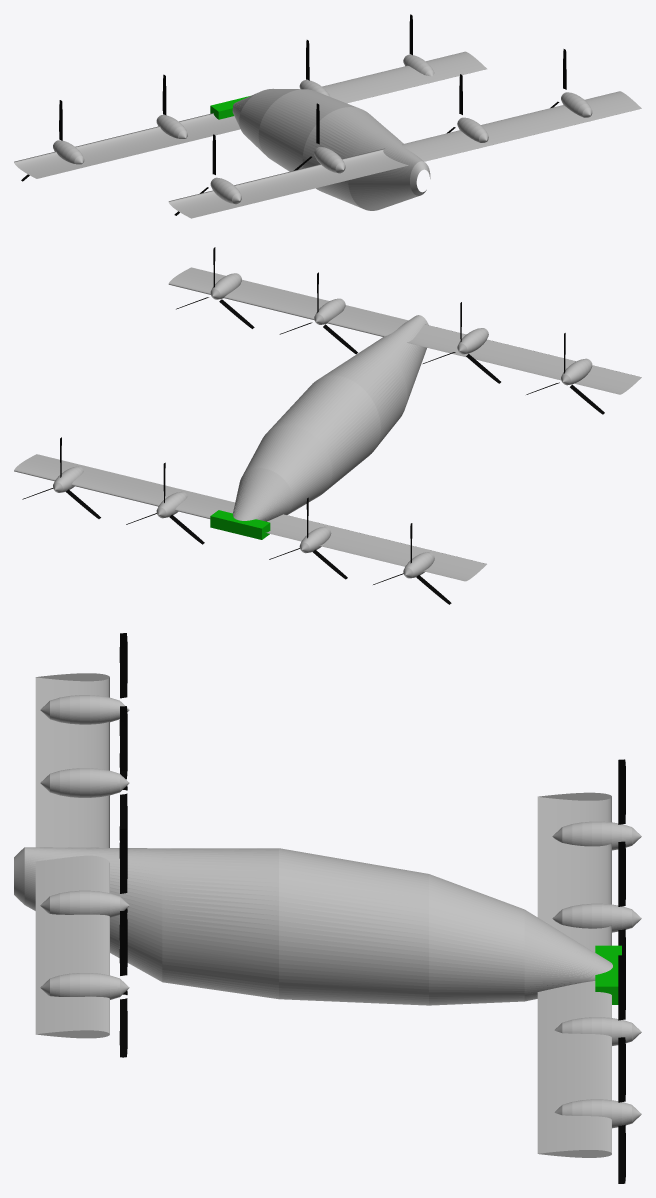
The model's file is Vahana.gltf.
3 renders of one model, top to bottom at view 1: azimuth 30°, elevation 25°; view 2: azimuth 150°, elevation 25°; view 3: azimuth 270°, elevation 25°, orthographic. The views are drawn at different scales.
Parts seen in each view (by area): view 1: Renderer Node; view 2: Renderer Node; view 3: Renderer Node.
Part boxes in pixels (x1,y1,x2,y2): Renderer Node: [14, 14, 641, 218]; Renderer Node: [14, 247, 641, 604]; Renderer Node: [14, 633, 641, 1183].
Size of the model in its own units: 8.48 by 2.78 by 6.3.
